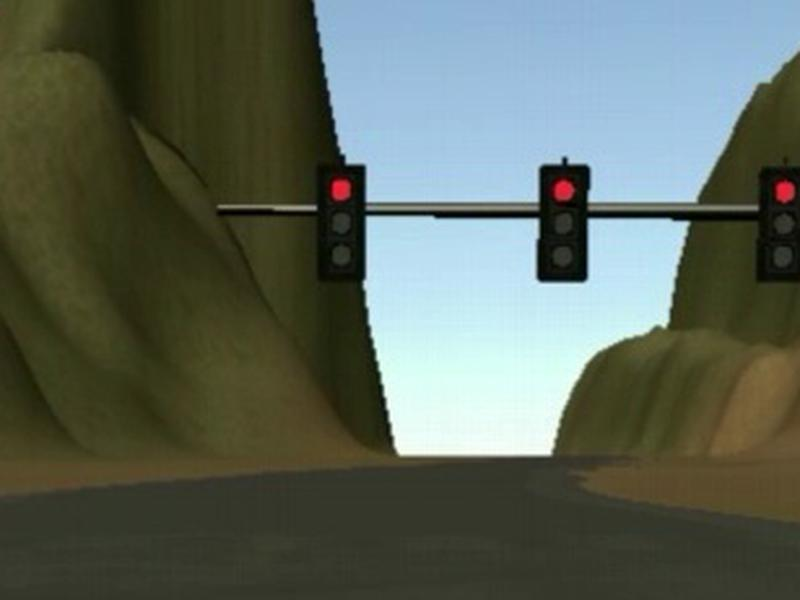Red: (540, 165, 586, 281), (319, 164, 365, 279), (761, 165, 800, 282)
